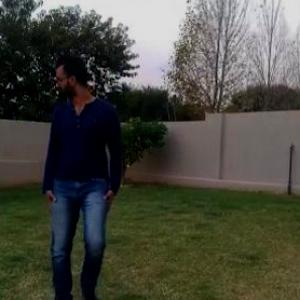follow: (29, 25, 133, 299)
